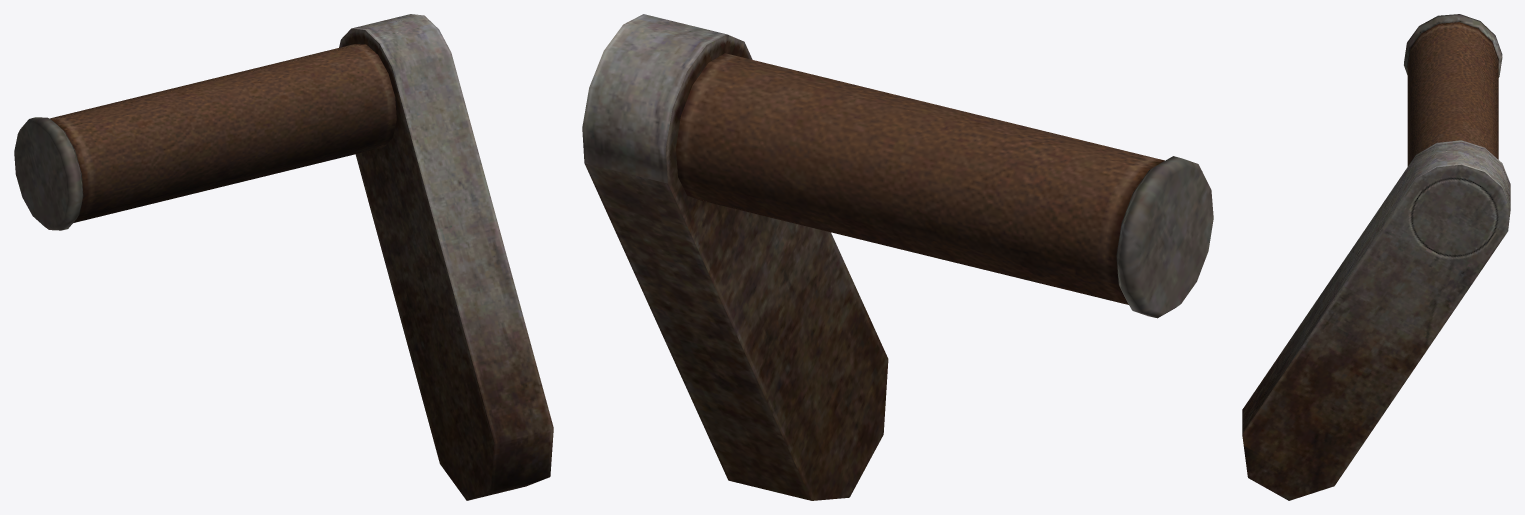
Rendered from 02_05_comm_room_lever.dae.
3 views of the same model, side by side, from view 1: azimuth 30°, elevation 25°; view 2: azimuth 150°, elevation 25°; view 3: azimuth 270°, elevation 25° (orthographic). The views are drawn at different scales.
Visible parts, largest first — view 1: polySurface13; view 2: polySurface13; view 3: polySurface13.
Part boxes in pixels (<box>): polySurface13: <box>14,14,553,500</box>; polySurface13: <box>582,14,1213,500</box>; polySurface13: <box>1242,14,1510,500</box>.
Size of the model in its own units: 0.2703 by 0.2637 by 0.1909.
